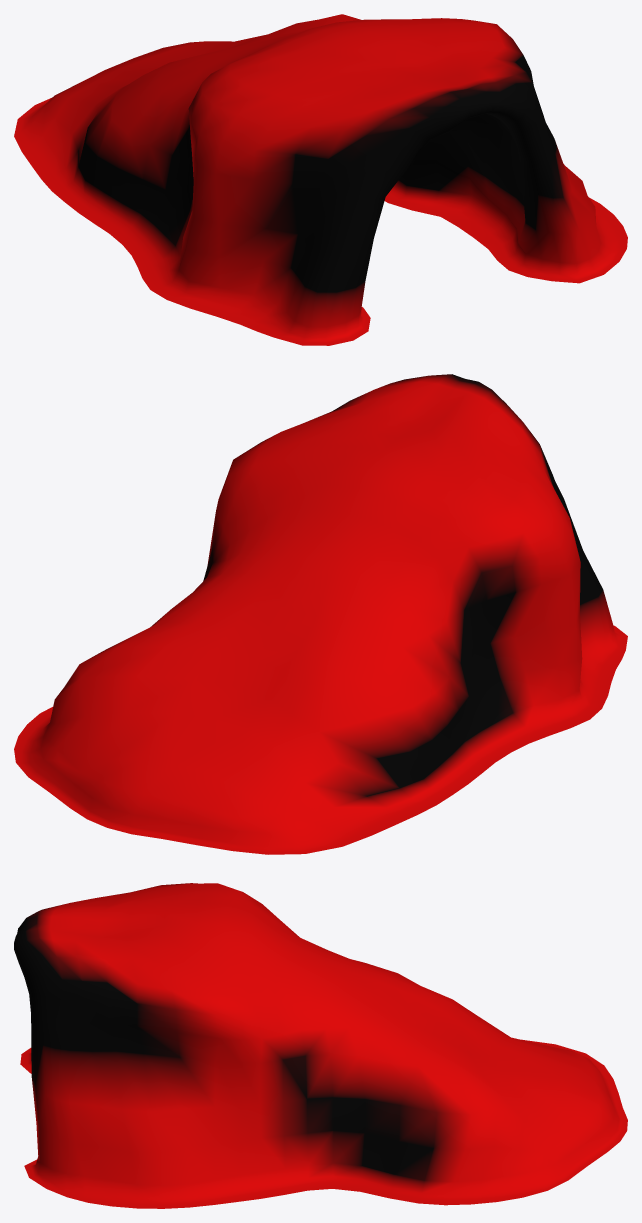
The model's file is GroundObject11B.fbx.
The picture shows the model from 3 angles, top to bottom: view 1: azimuth 30°, elevation 25°; view 2: azimuth 150°, elevation 25°; view 3: azimuth 270°, elevation 25°; orthographic projection. The views are drawn at different scales.
Visible parts, largest first — view 1: GroundObject11B; view 2: GroundObject11B; view 3: GroundObject11B.
Part boxes in pixels (box(x1,y1,x2,y2)): GroundObject11B: box(14, 14, 627, 345); GroundObject11B: box(14, 374, 627, 854); GroundObject11B: box(14, 883, 627, 1208).
Bounding box in the file's own units: 3.47 × 1.68 × 4.76.
